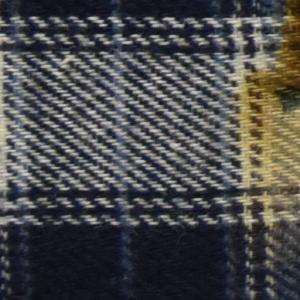Oil Stain: (229, 1, 300, 274)
